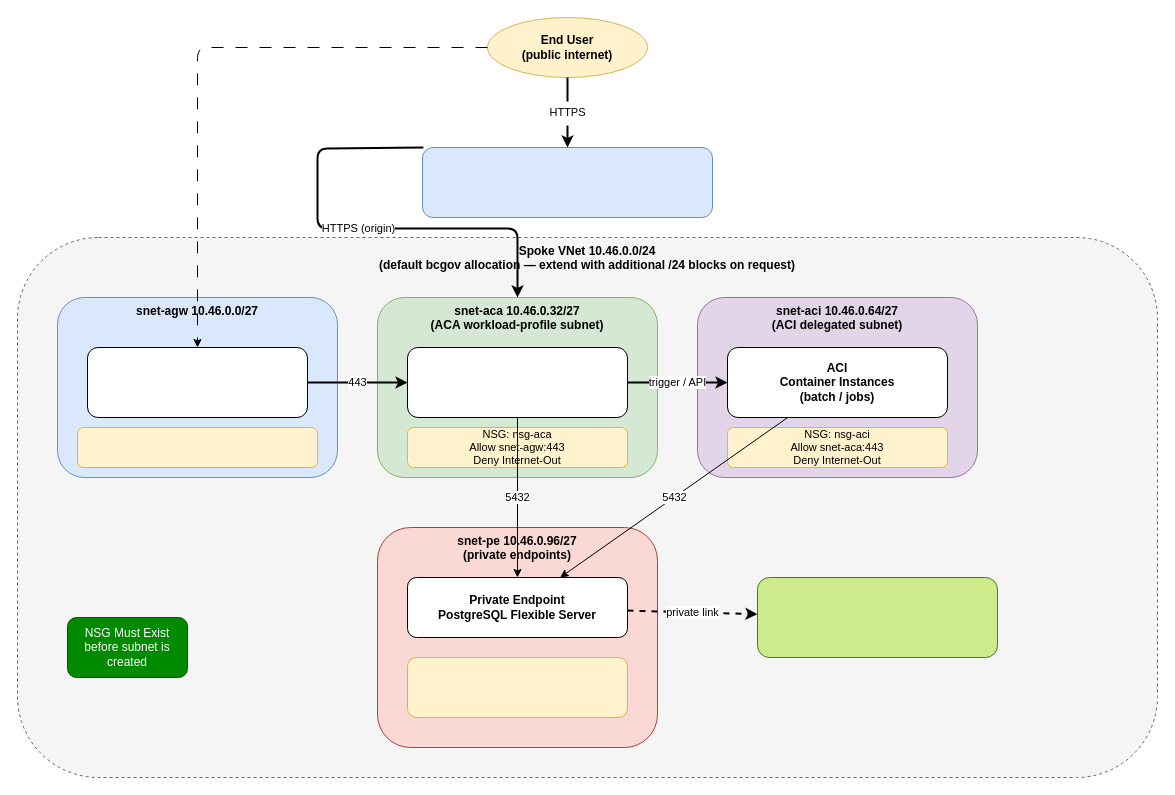
Some shapes in this 1175 by 795 pixel diagram are drawn without their labels. The centre of each missing label's shape, as x and y in pixels:
"ACA Container Apps Environment (web / API)" belongs at [517,382].
"App Gateway + WAF v2 (regional ingress) (optional if frontdoor is present)" belongs at [197,382].
"Azure Database for PostgreSQL Flexible Server (public access disabled)" belongs at [877,617].
"Azure Front Door (global edge + WAF)" belongs at [567,182].
"NSG: nsg-agw Allow GatewayManager:65200-65535 Allow Front Door tag:443" belongs at [197,447].
"NSG: nsg-pe Allow snet-aca:5432 Allow snet-aci:5432" belongs at [517,687].
